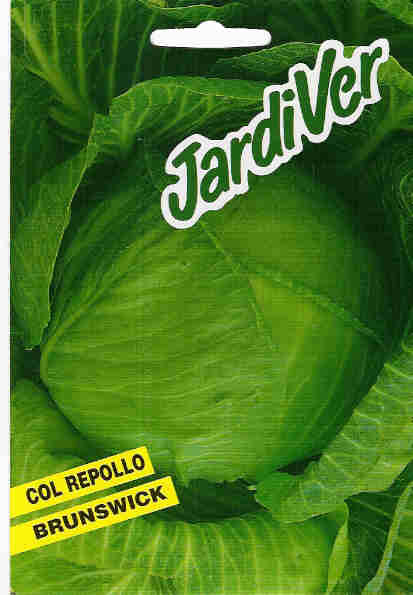cabbage: (7, 0, 411, 593)
